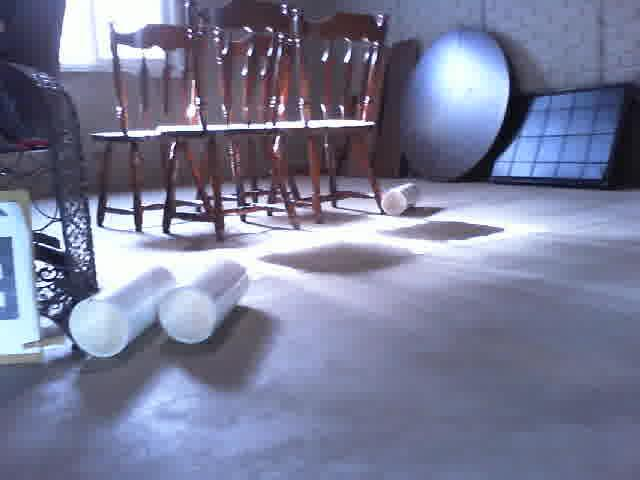coral: (67, 262, 176, 361), (158, 255, 252, 347), (381, 180, 421, 219)
